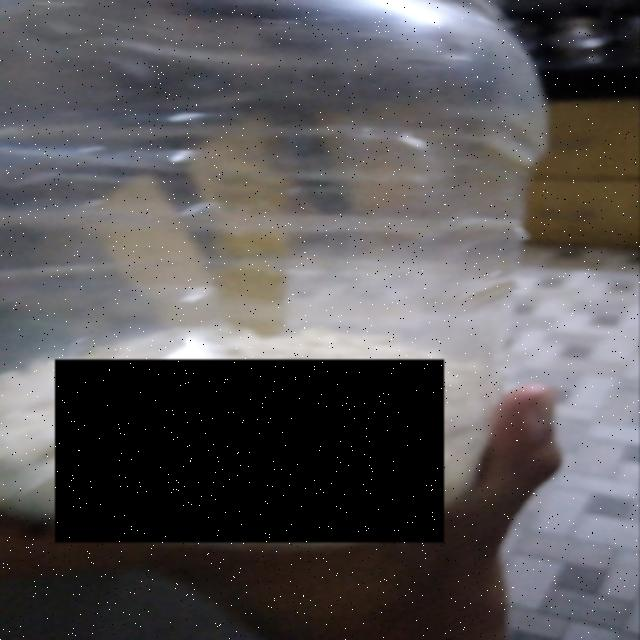Beaten_Rice: (55, 360, 444, 542)
